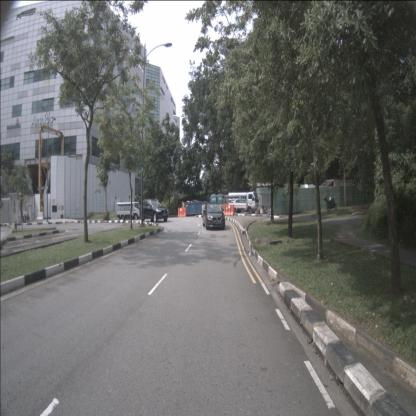human-pedestrian-adult: (24, 208, 26, 223)
movable_object-barrier: (223, 204, 234, 216), (178, 207, 187, 217), (37, 212, 44, 221)
vehicle-car: (140, 199, 168, 223), (202, 202, 225, 230), (232, 198, 250, 210)
vehicle-motorcycle: (324, 195, 338, 211)
vehicle-truck: (228, 192, 259, 213), (117, 201, 141, 221)
